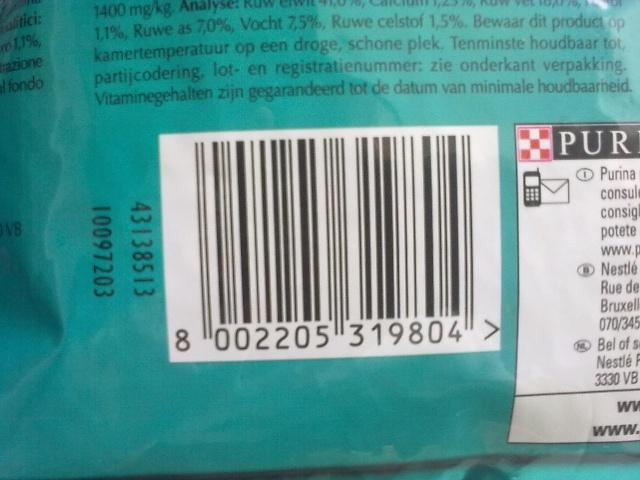Barcode: (159, 131, 480, 361)
